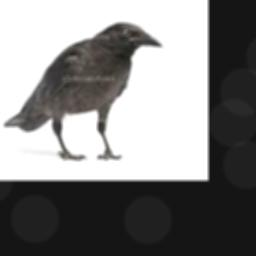Crow: (3, 22, 162, 160)
